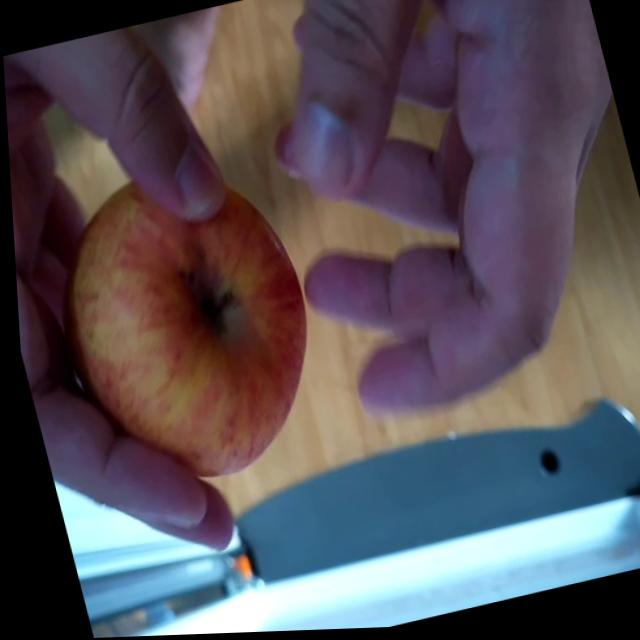apple: (30, 158, 339, 506)
